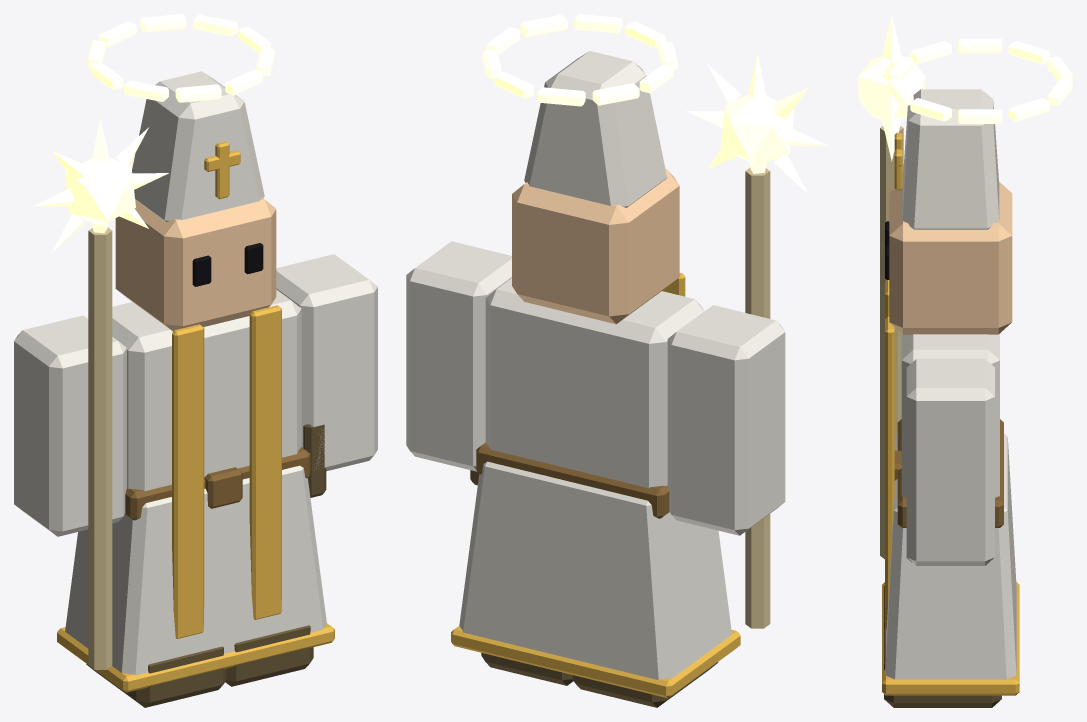
File: Priest.fbx
The picture shows the model from 3 angles, left to right: view 1: azimuth 30°, elevation 25°; view 2: azimuth 150°, elevation 25°; view 3: azimuth 270°, elevation 25°; orthographic projection. The views are drawn at different scales.
Visible parts, largest first — view 1: Robe, Stole, Torso, RightArm, Head, LeftArm, Mitre, Staff, StaffSun, Halo, Belt, RightLegBoot (+4 smaller); view 2: Robe, Torso, RightArm, Head, LeftArm, Mitre, StaffSun, Staff, Halo, Stole, Belt, RightLegBoot (+1 smaller); view 3: LeftArm, Robe, Head, Mitre, Halo, Stole, Torso, Staff, StaffSun, LeftLegBoot, Belt, MitreCross.
Boxes of the visible parts, box(x1,y1,x2,y2) form: Robe: box(65, 465, 326, 675); Stole: box(57, 305, 334, 692); Torso: box(112, 289, 301, 490); RightArm: box(14, 315, 126, 536); Head: box(115, 197, 276, 331); LeftArm: box(276, 254, 377, 471); Mitre: box(132, 71, 264, 221); Staff: box(88, 227, 112, 669); StaffSun: box(32, 118, 168, 252); Halo: box(87, 14, 274, 102); Belt: box(125, 447, 310, 520); RightLegBoot: box(86, 646, 226, 707); Robe: box(459, 461, 731, 680); Torso: box(485, 278, 704, 488); RightArm: box(667, 305, 785, 535); Head: box(512, 169, 679, 324); LeftArm: box(406, 241, 511, 471); Mitre: box(524, 51, 667, 207); StaffSun: box(686, 54, 829, 193); Staff: box(745, 167, 770, 628); Halo: box(482, 14, 677, 106); Stole: box(451, 273, 740, 697); Belt: box(476, 442, 669, 518); RightLegBoot: box(572, 662, 718, 707); LeftArm: box(906, 358, 994, 565); Robe: box(885, 433, 1016, 679); Head: box(889, 181, 1012, 334); Mitre: box(902, 89, 999, 229); Halo: box(888, 38, 1072, 123); Stole: box(882, 280, 1019, 695); Torso: box(901, 333, 999, 497); Staff: box(880, 126, 903, 558); StaffSun: box(858, 14, 925, 161); LeftLegBoot: box(884, 627, 1001, 707); Belt: box(894, 419, 1003, 527); MitreCross: box(894, 132, 902, 190).
Size of the model in its own units: 4.15 by 6.66 by 2.18.
